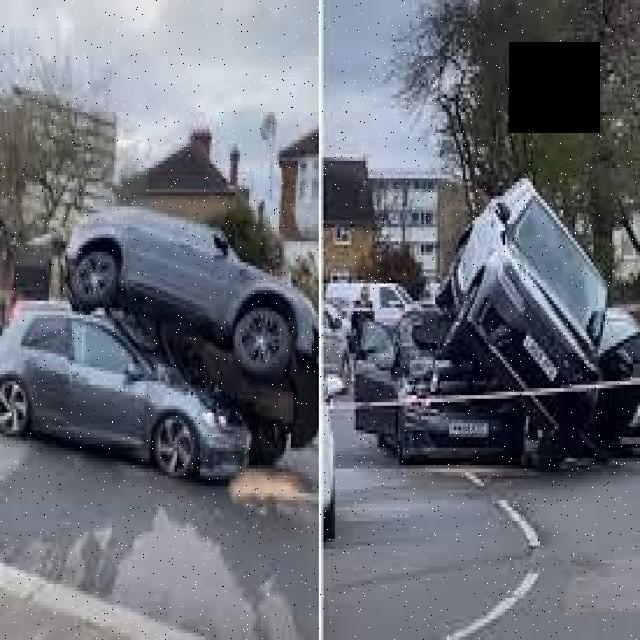multiple_accident: (0, 156, 316, 542), (397, 192, 640, 496)
